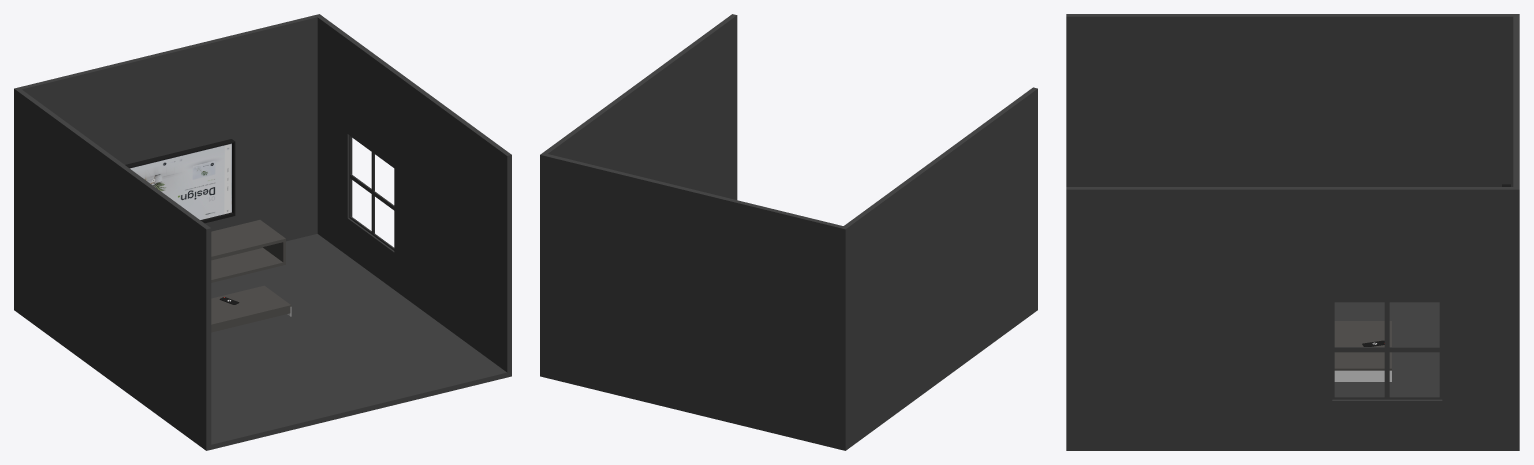
File: finale.glb
3 views of the same model, side by side, from view 1: azimuth 30°, elevation 25°; view 2: azimuth 150°, elevation 25°; view 3: azimuth 270°, elevation 25° (orthographic). The views are drawn at different scales.
Parts seen in each view (by area): view 1: Plane, tv-screen, Plane.001, Plane.006, Plane.002, Plane.008; view 2: Plane; view 3: Plane, Plane.008, Plane.006, Plane.007.
Part boxes in pixels (left/top/right/bottom): Plane: left=14, top=14, right=511, bottom=450; tv-screen: left=130, top=143, right=231, bottom=219; Plane.001: left=211, top=220, right=285, bottom=282; Plane.006: left=211, top=285, right=291, bottom=332; Plane.002: left=125, top=139, right=235, bottom=223; Plane.008: left=349, top=135, right=394, bottom=250; Plane: left=540, top=14, right=1037, bottom=450; Plane: left=1066, top=14, right=1519, bottom=450; Plane.008: left=1332, top=301, right=1442, bottom=399; Plane.006: left=1334, top=321, right=1391, bottom=370; Plane.007: left=1334, top=370, right=1391, bottom=381.
Bounding box in the file's own units: 13.2 × 9.15 × 14.39.
12 materials, 1 textured.
